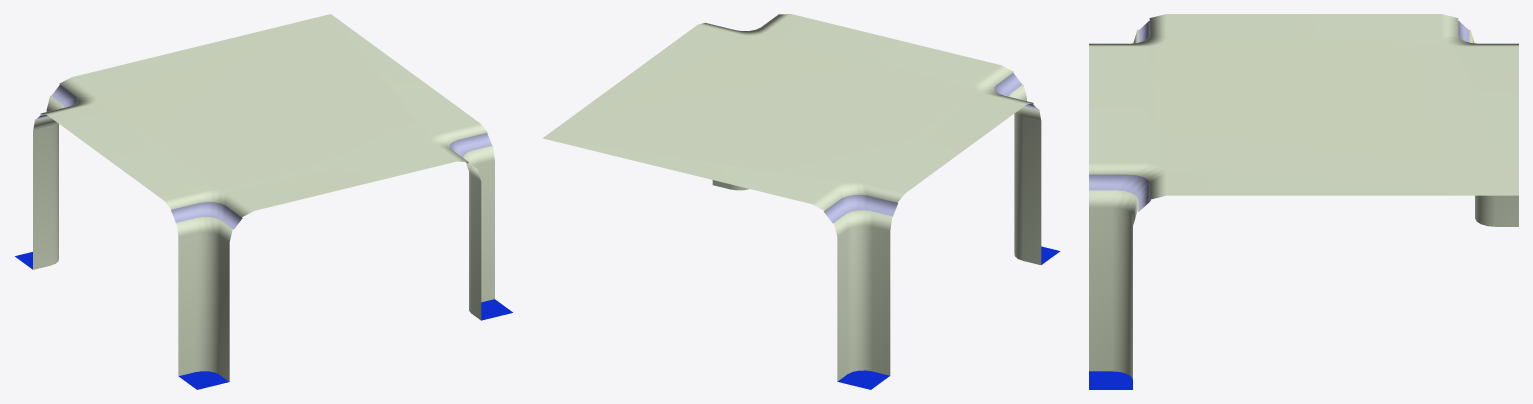
The model's file is Wall_Island_Cross_3.fbx.
3 views of the same model, side by side, from view 1: azimuth 30°, elevation 25°; view 2: azimuth 150°, elevation 25°; view 3: azimuth 270°, elevation 25° (orthographic). The views are drawn at different scales.
Visible parts, largest first — view 1: Wall_Island_Cross_3; view 2: Wall_Island_Cross_3; view 3: Wall_Island_Cross_3.
Boxes of the visible parts, left/top/right/bottom form: Wall_Island_Cross_3: left=15, top=14, right=512, bottom=389; Wall_Island_Cross_3: left=542, top=14, right=1060, bottom=389; Wall_Island_Cross_3: left=1089, top=14, right=1518, bottom=389.
Bounding box in the file's own units: 100 × 49.85 × 100.
